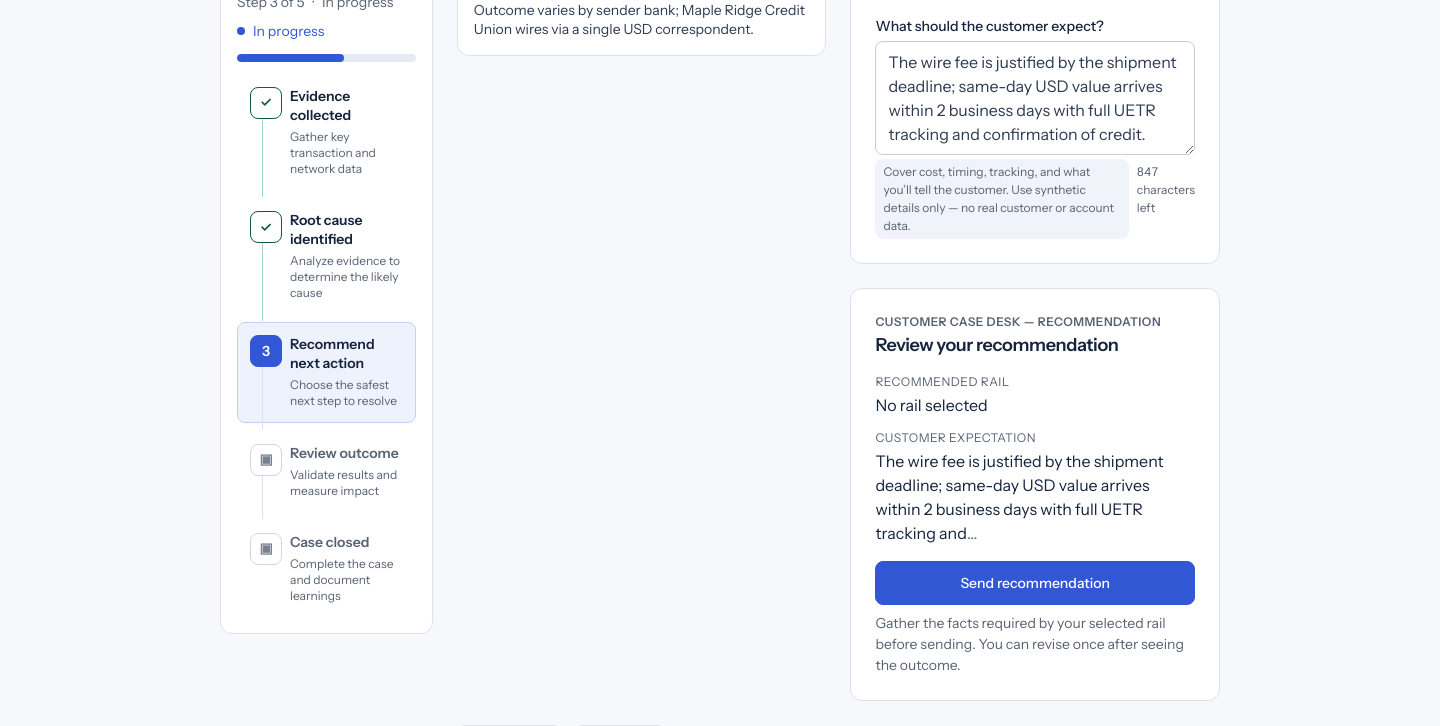
Test: RecommendationFlow — linked validation error-summary on Send (spec L213) › shows a linked error summary and focuses it when Send is clicked with no rail selected
(page scrolled)
Click the button "Send recommendation": (1035, 583) [875,561,1195,605]
(page scrolled)
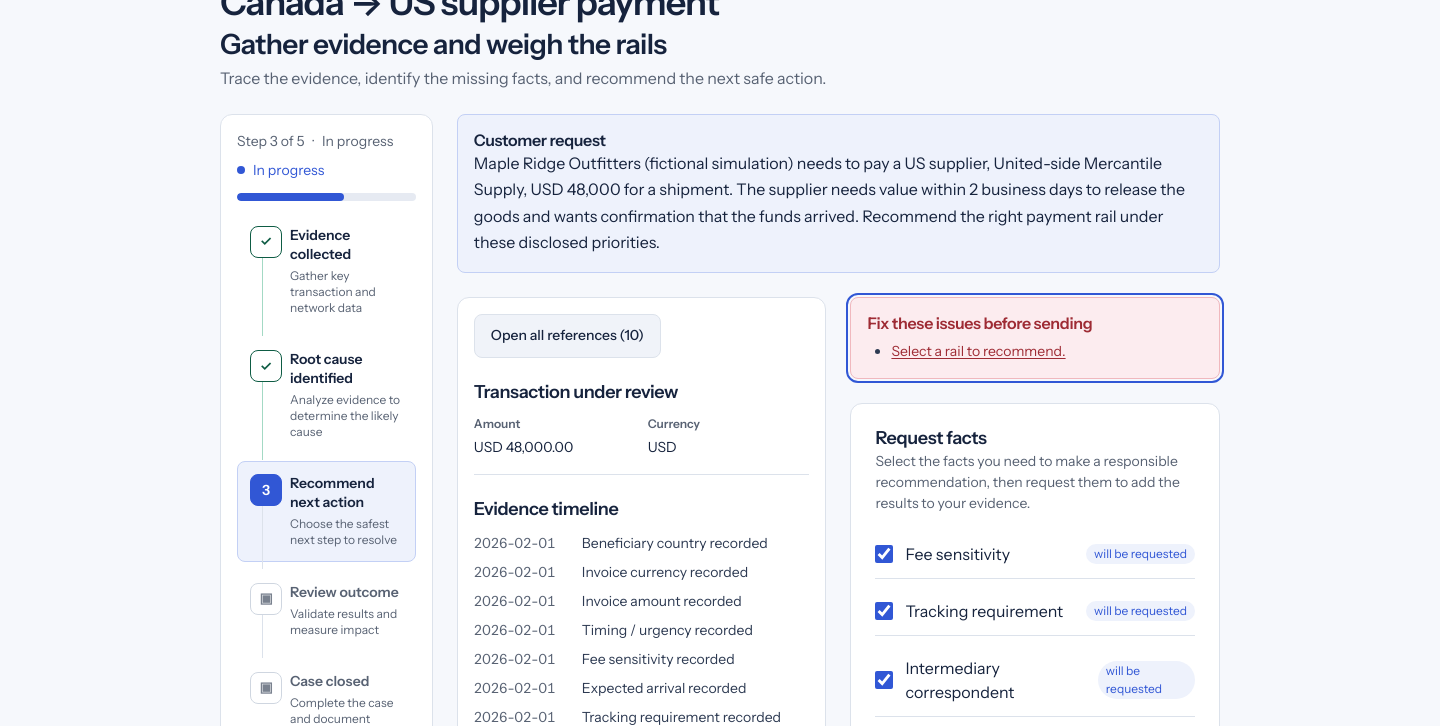
Check: the message shows "Select a rail", box [891,342,1066,360]
